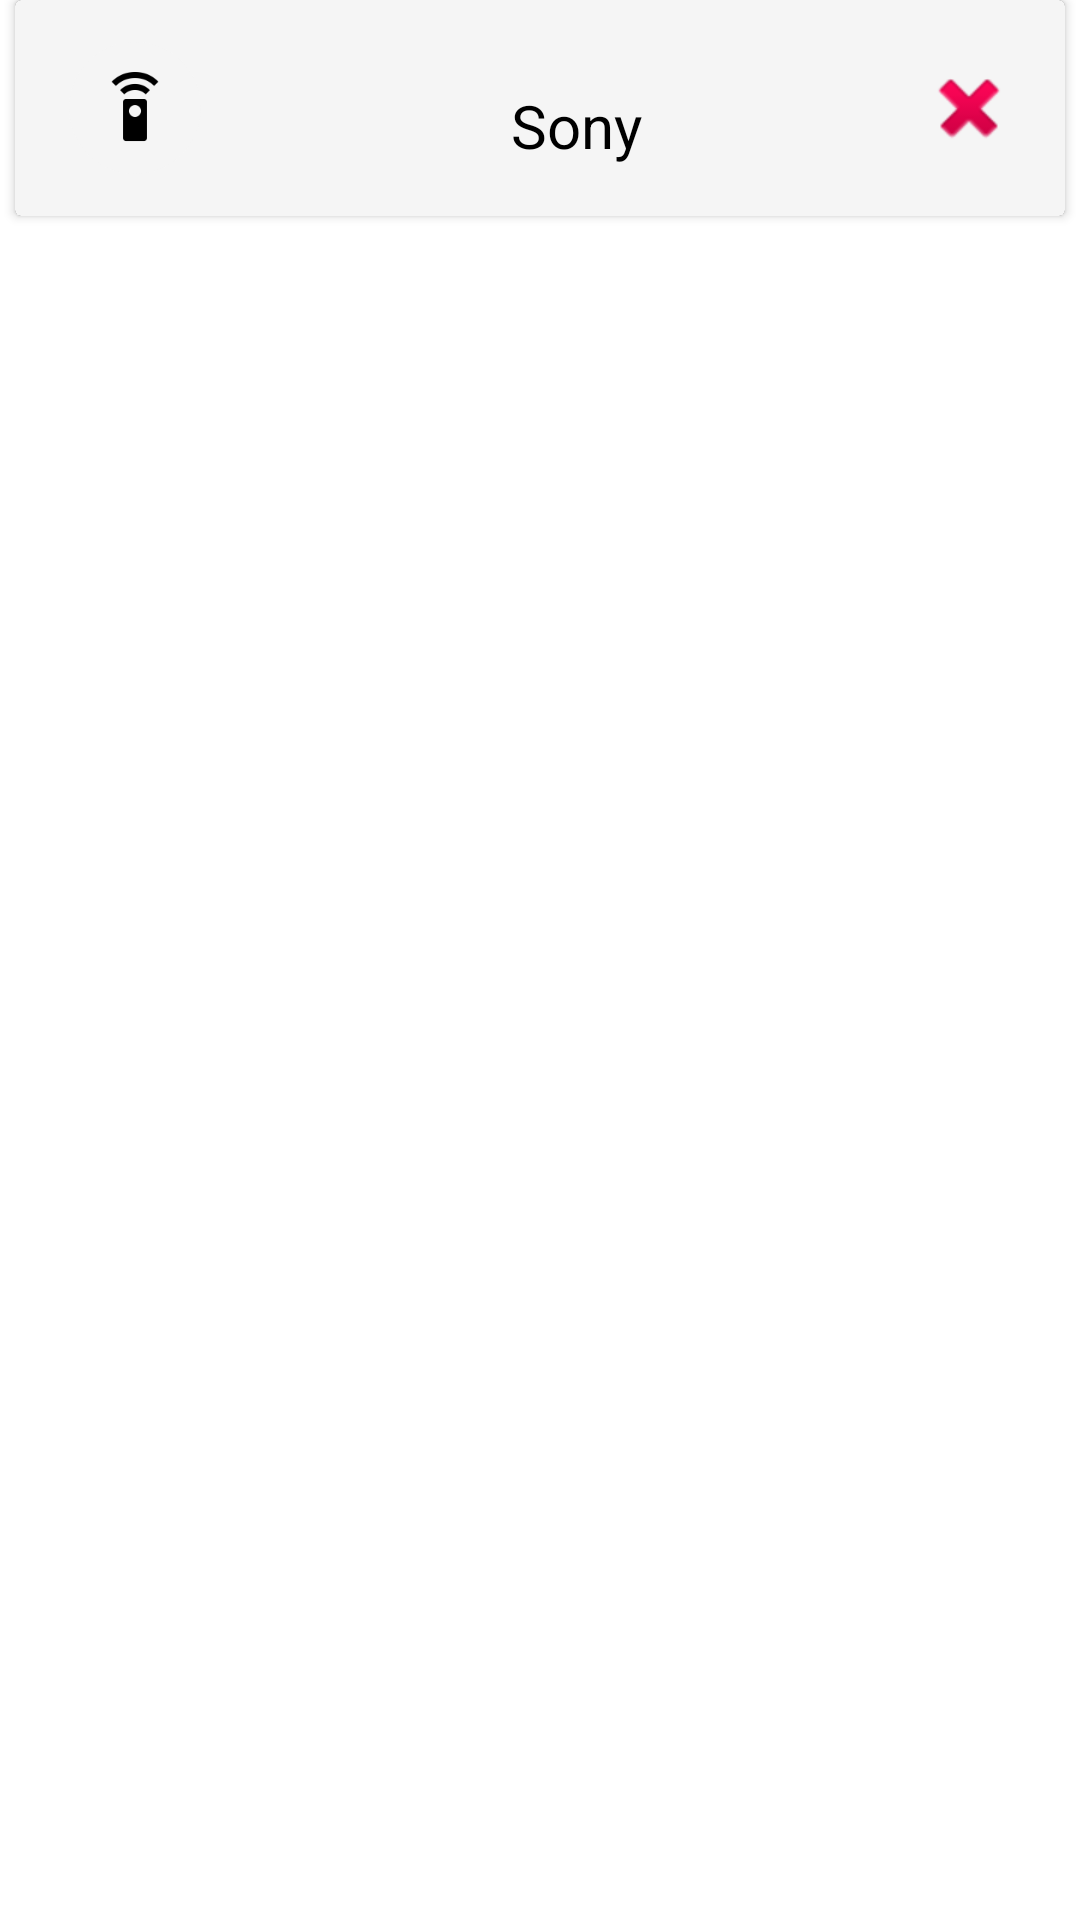

Point at icon controls on the screen. Image size 1080 × 1920, points as [x,y].
shortcut settings remote: [135,106]
